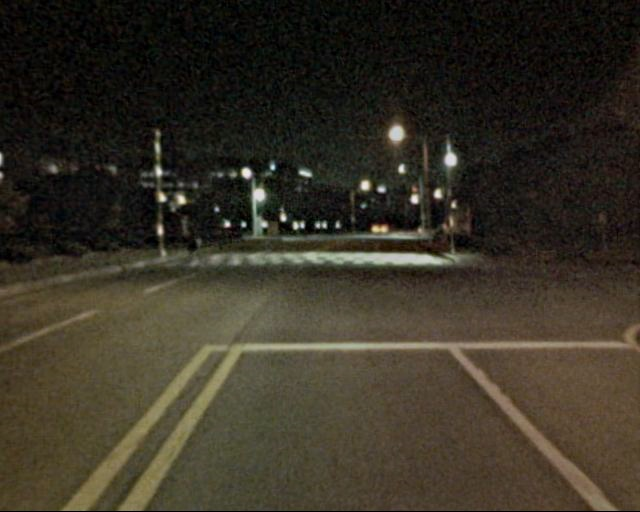person: (180, 223, 203, 275)
